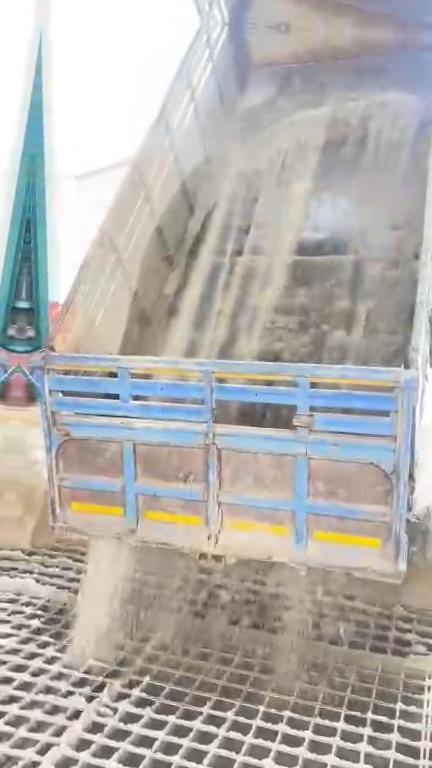sand: (71, 505, 432, 682), (160, 112, 327, 358), (7, 406, 87, 549), (305, 94, 416, 157), (47, 683, 117, 768), (316, 642, 432, 676), (4, 575, 70, 602), (244, 76, 274, 106)
